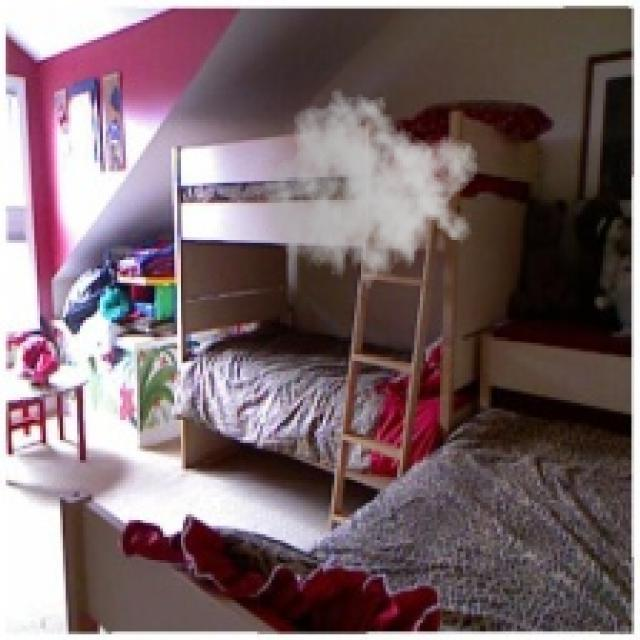Smoke: (263, 83, 480, 300)
